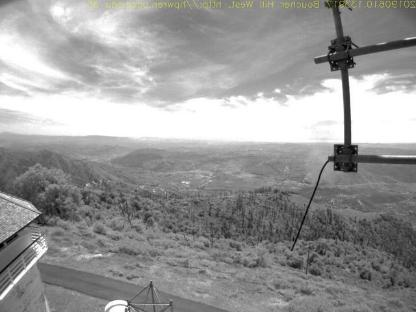smoke: (296, 136, 332, 188)
